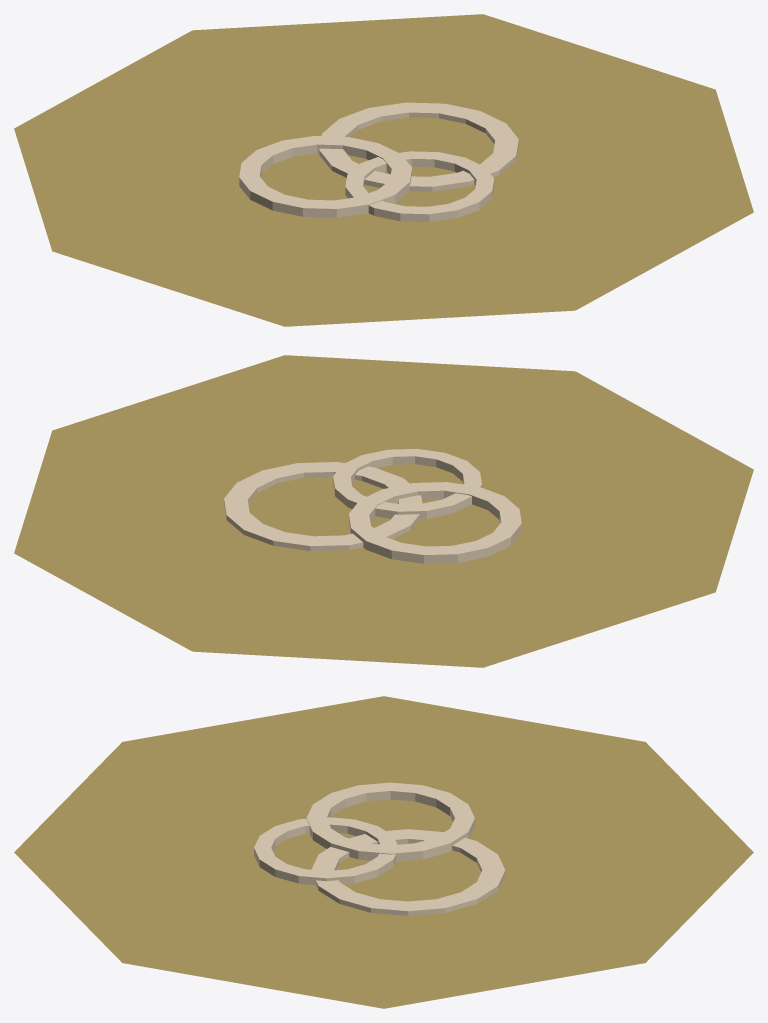
Rendered from SM_OnionSoup.fbx.
3 renders of one model, top to bottom at view 1: azimuth 30°, elevation 25°; view 2: azimuth 150°, elevation 25°; view 3: azimuth 270°, elevation 25°, orthographic. The views are drawn at different scales.
Visible parts, largest first — view 1: Cylinder.002; view 2: Cylinder.002; view 3: Cylinder.002.
Boxes of the visible parts, x1,y1,x2,y2 form: Cylinder.002: [14, 14, 753, 326]; Cylinder.002: [14, 355, 753, 667]; Cylinder.002: [14, 696, 753, 1008].
Bounding box in the file's own units: 58.94 × 4.06 × 58.94.
